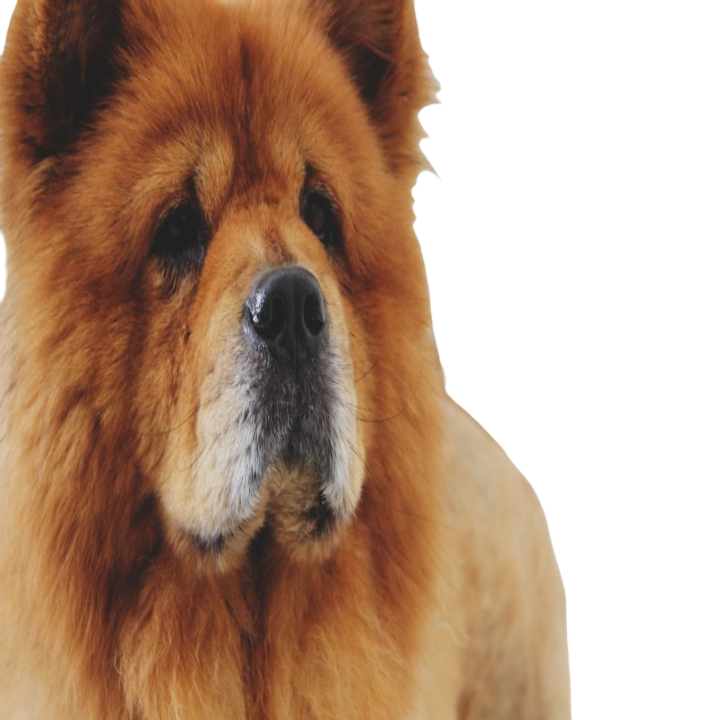Dog: (0, 0, 571, 717)
